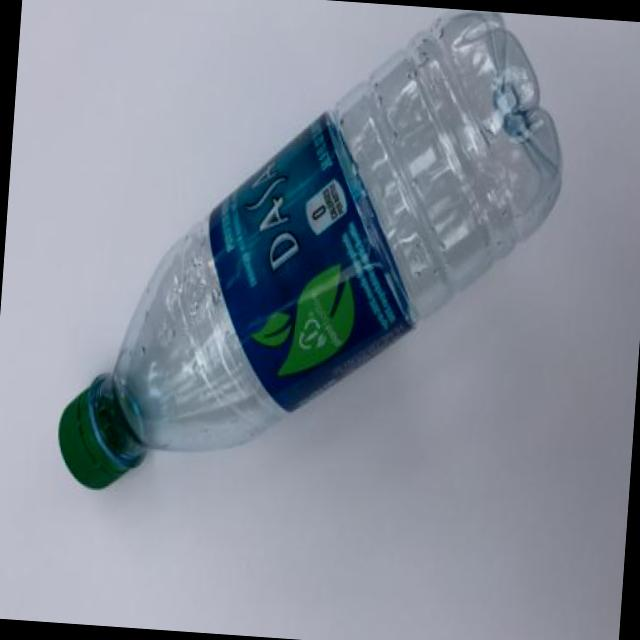Recycle: (51, 6, 574, 521)
